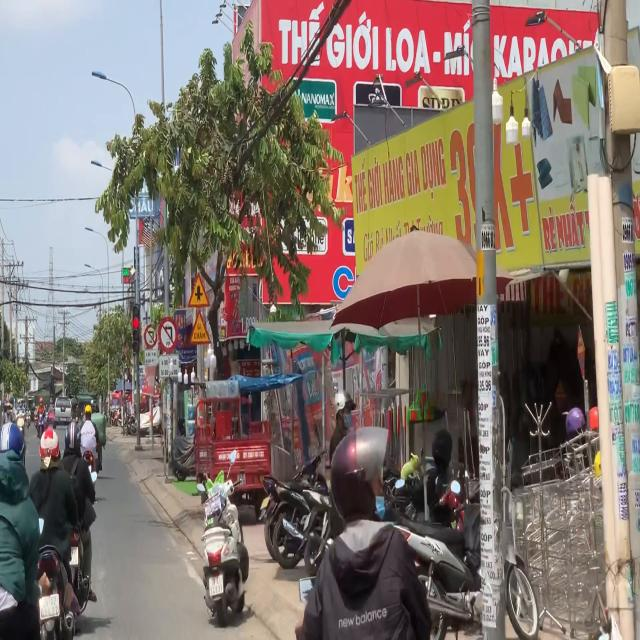Cam re trai: (158, 316, 178, 352), (144, 324, 158, 348)
Giao voi duong khong uu tien: (187, 272, 211, 308)
Nguy hiem: (189, 308, 210, 344)
